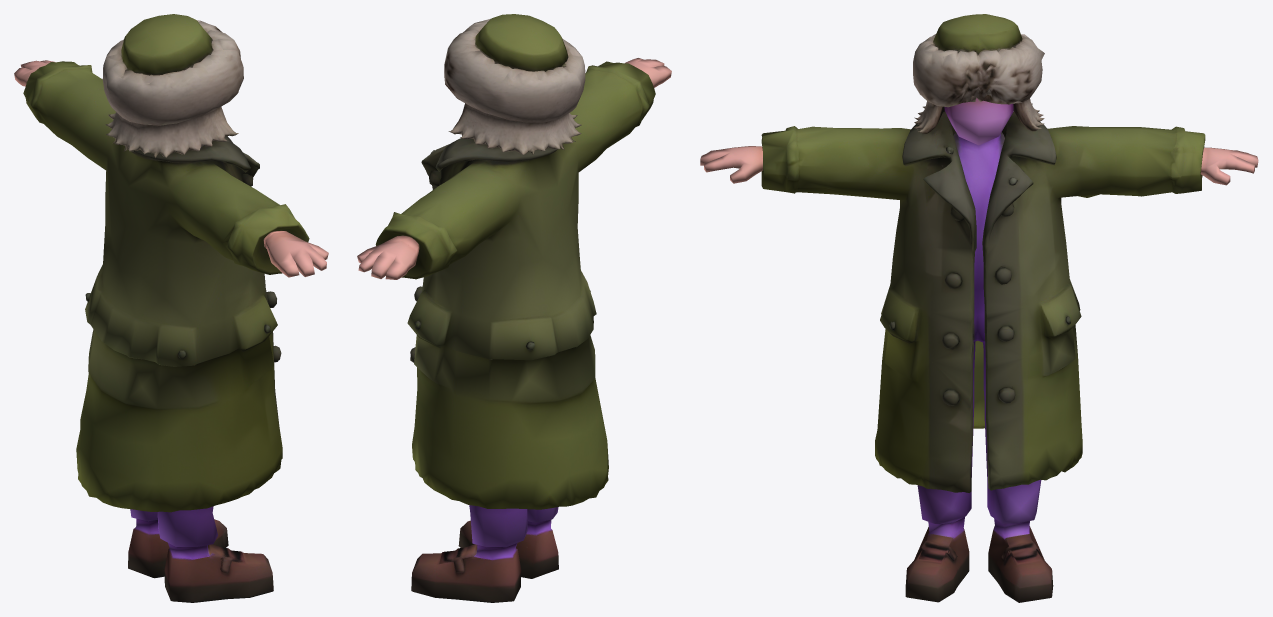
The model's file is char_ye_wenjie.glb.
The picture shows the model from 3 angles, left to right: view 1: azimuth 30°, elevation 25°; view 2: azimuth 150°, elevation 25°; view 3: azimuth 270°, elevation 25°; orthographic projection. The views are drawn at different scales.
Visible parts, largest first — view 1: tripo_node_536f912c-d40a-4dbc-9269-9658cb7d6768; view 2: tripo_node_536f912c-d40a-4dbc-9269-9658cb7d6768; view 3: tripo_node_536f912c-d40a-4dbc-9269-9658cb7d6768.
Boxes of the visible parts, <box> form: tripo_node_536f912c-d40a-4dbc-9269-9658cb7d6768: <box>14,14,328,602</box>; tripo_node_536f912c-d40a-4dbc-9269-9658cb7d6768: <box>357,14,671,602</box>; tripo_node_536f912c-d40a-4dbc-9269-9658cb7d6768: <box>700,14,1258,602</box>.
Size of the model in its own units: 0.334 by 0.998 by 0.9238.
Materials: 1 (1 with a texture image).
